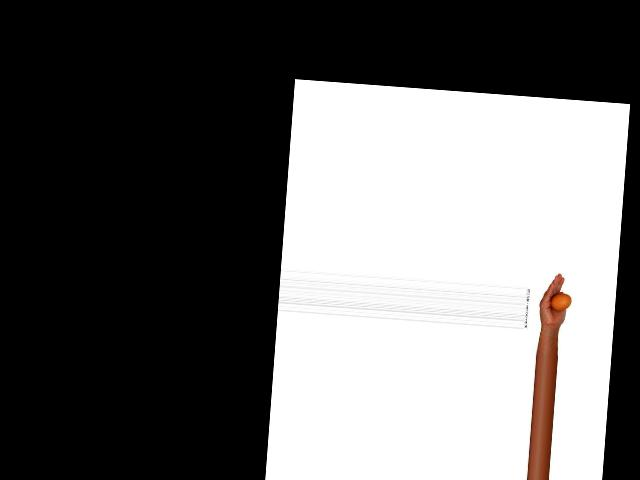egg: (549, 292, 571, 311)
